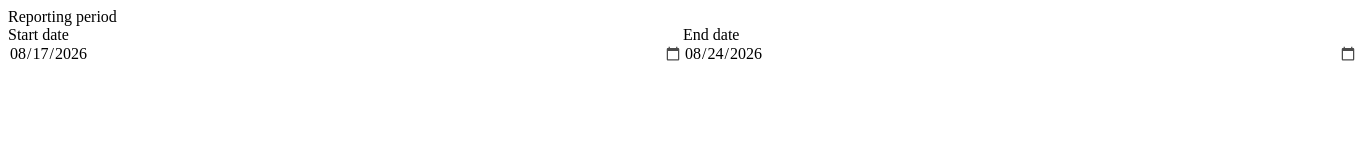
Test case: DateRangeField › clears one side independently through its own clear action
Click the button named "Clear start date" at (682, 54), box [681,53,683,55]
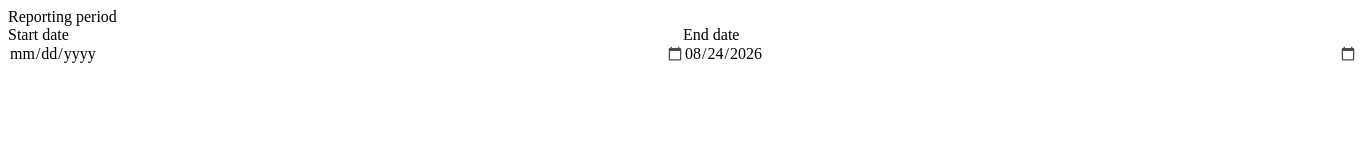
expect the date field labelled "End date" holds "2026-08-24": met, box [683,44,1356,64]
expect the date field labelled "Start date" is empty: met, box [8,44,683,64]
